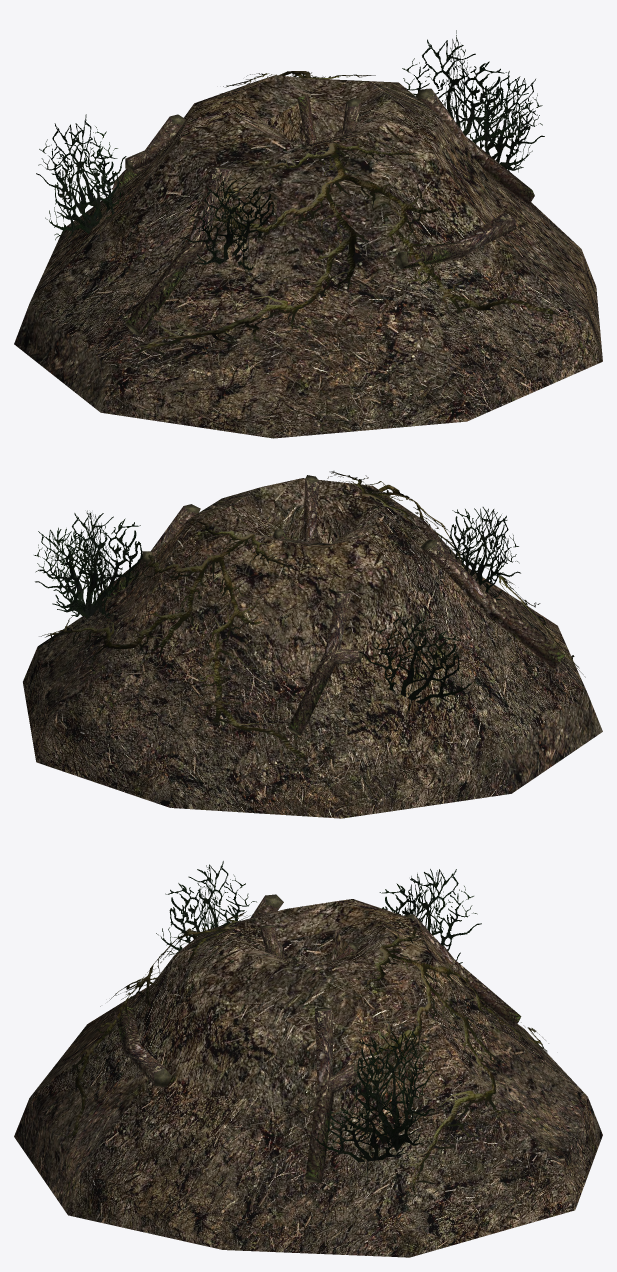
Rendered from KM_VOB_RAT_DUMP_01.glb.
The picture shows the model from 3 angles, top to bottom: view 1: azimuth 30°, elevation 25°; view 2: azimuth 150°, elevation 25°; view 3: azimuth 270°, elevation 25°; orthographic projection. The views are drawn at different scales.
Parts seen in each view (by area): view 1: Mesh; view 2: Mesh; view 3: Mesh.
Part boxes in pixels (x1,y1,x2,y2): Mesh: [14, 30, 602, 438]; Mesh: [23, 471, 602, 818]; Mesh: [14, 861, 602, 1257].
Size of the model in its own units: 2.23 by 0.8733 by 2.13.
Materials: 5 (5 with a texture image).
